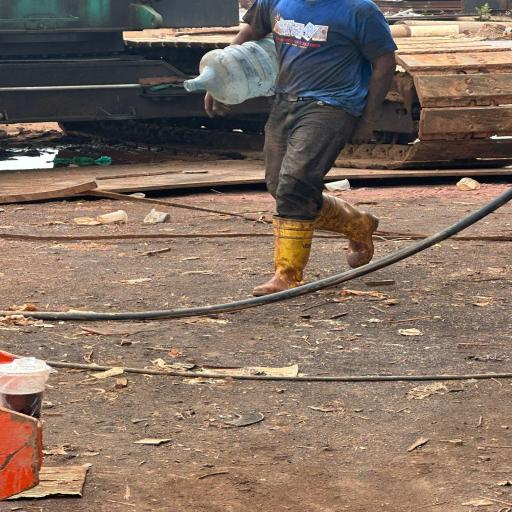safety_shoe: (248, 214, 317, 303), (315, 197, 387, 273)
